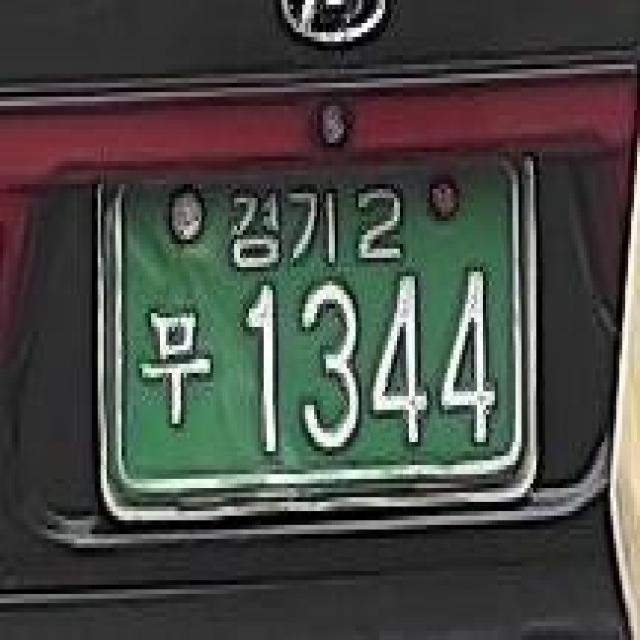illegal_plate: (76, 133, 555, 535)
